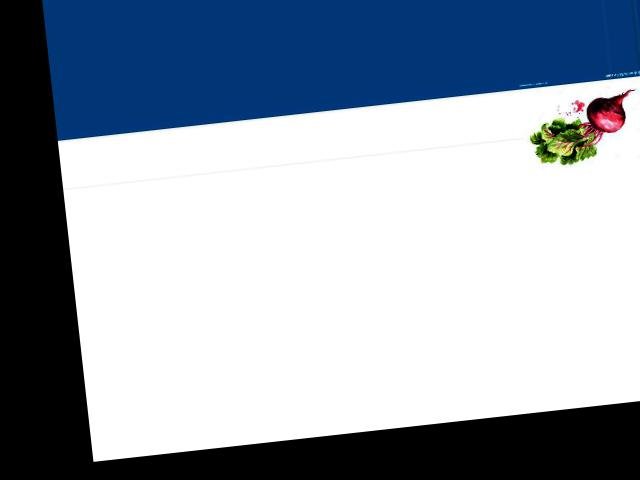beet: (524, 88, 640, 168)
